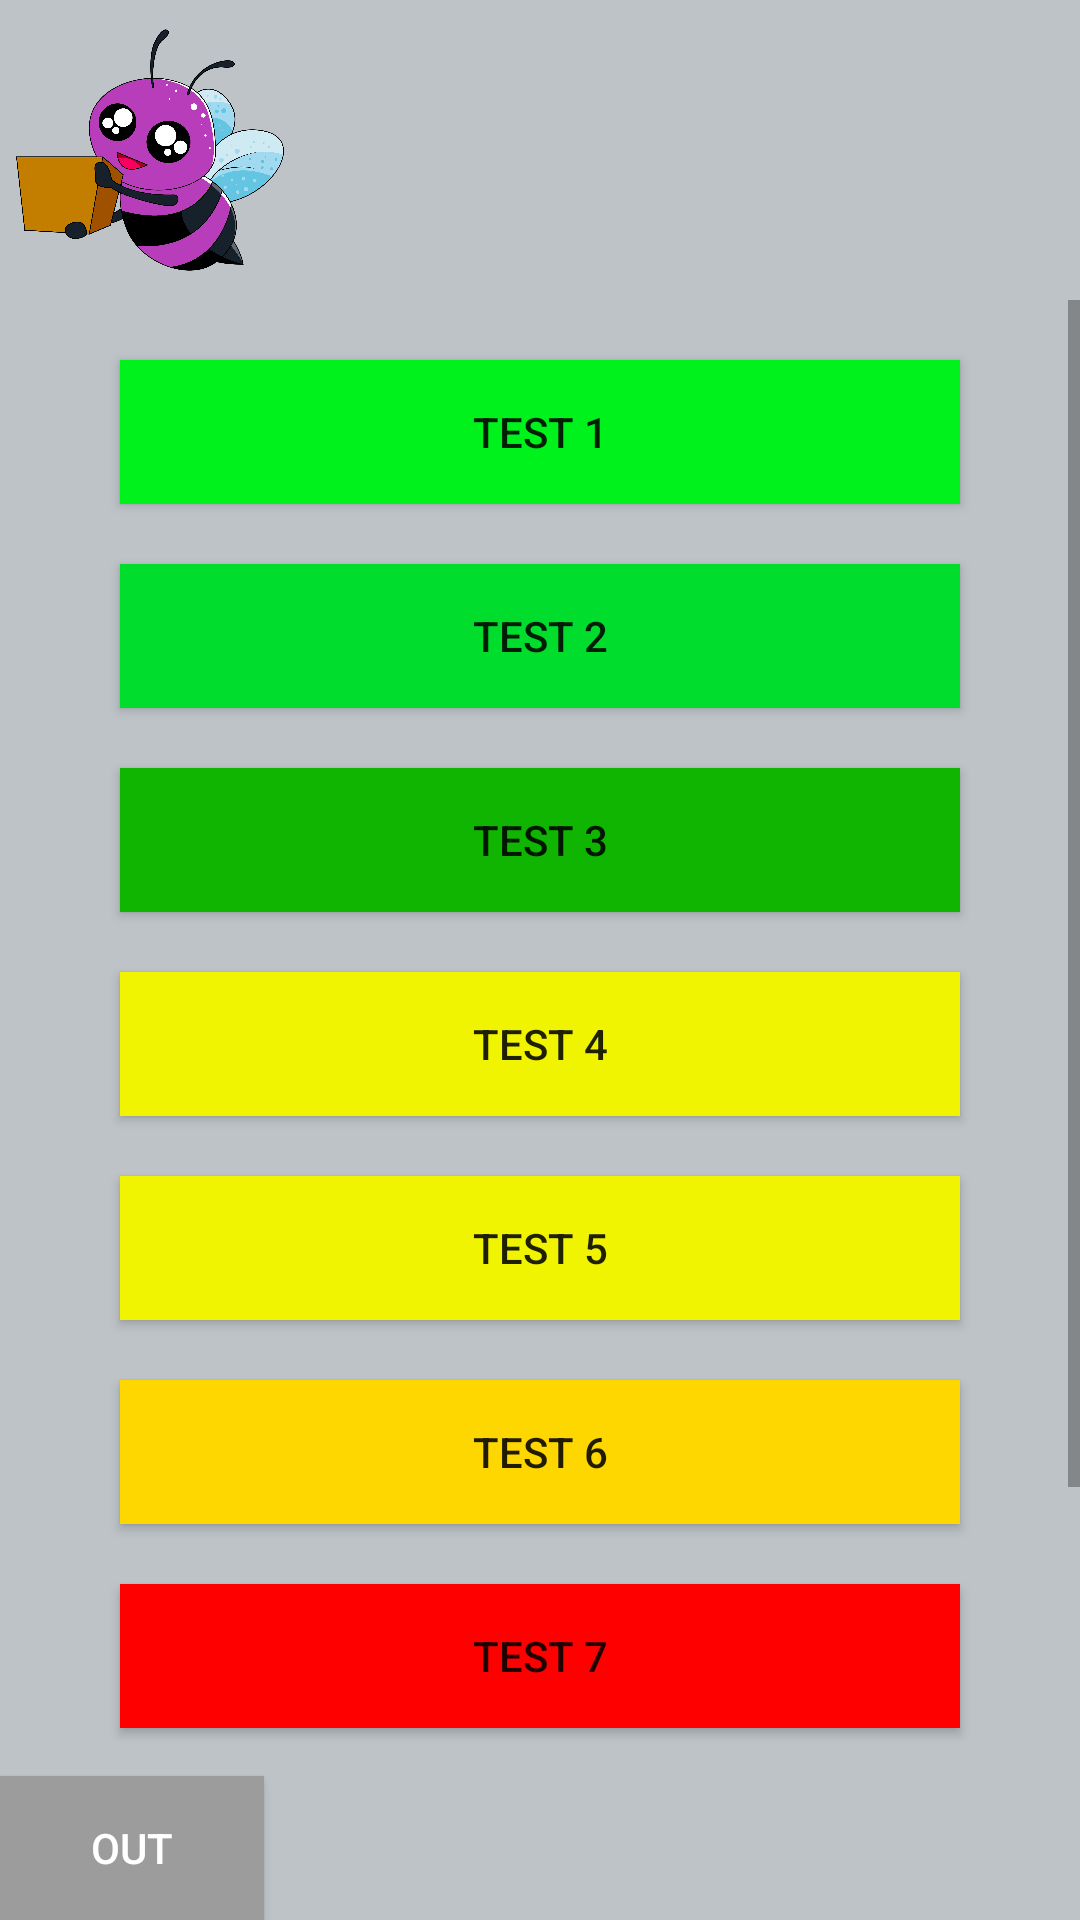

Screen size 1080×1920. Icon name, then its center in pixels as (x=x, y=y):
bee revize: (x=150, y=150)
